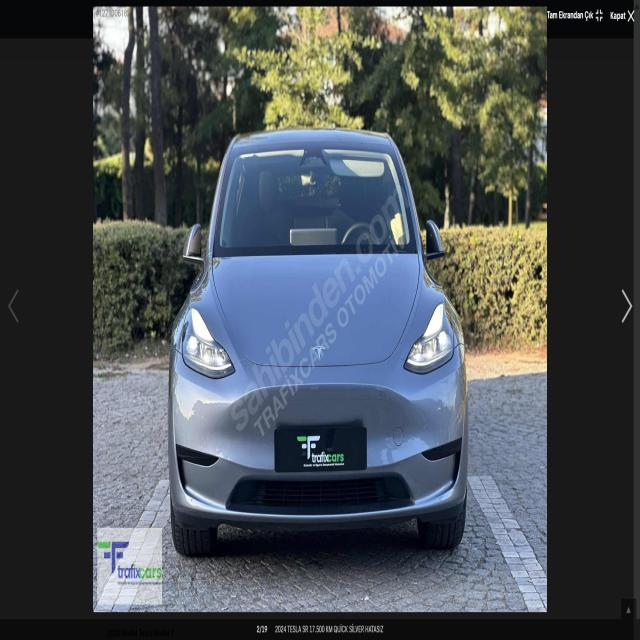tesla: (300, 327, 340, 377)
